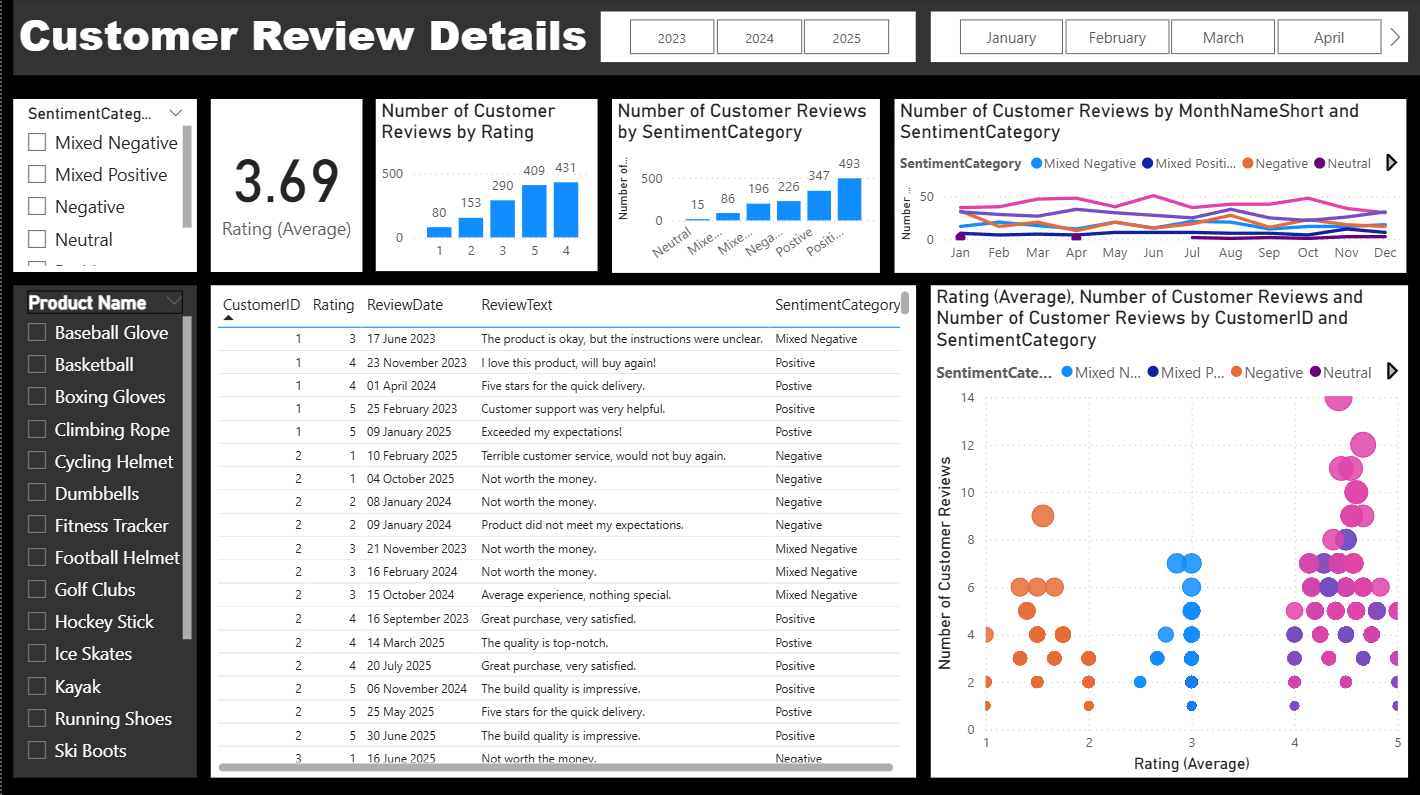

What the dashboard file says about the page in this screenshot:
{"tool":"powerbi","page":{"name":"Customer Review Details","canvas":[1280,720],"ordinal":3},"visuals":[{"type":"textbox","box":[9.6,0,1270.7,68.6],"z":0},{"type":"slicer","fields":{"Values":["dim_products.ProductName"]},"box":[10,258.6,165.7,444.3],"z":1000},{"type":"slicer","fields":{"Values":["Calendar.Year"]},"box":[540,11.4,284.3,45.7],"z":2000},{"type":"slicer","fields":{"Values":["Calendar.MonthNameLong"]},"box":[837.1,11.4,430,45.7],"z":3000},{"type":"card","fields":{"Values":["Calculations.Rating (Average)"]},"box":[188.6,90,137.1,155.7],"z":4000},{"type":"clusteredColumnChart","fields":{"Y":["Calculations.Number of Customer Reviews"],"Category":["fact_customer_reviews_with_sentiment.Rating"]},"box":[336.7,90,200,155],"z":4001},{"type":"clusteredColumnChart","fields":{"Y":["Calculations.Number of Customer Reviews"],"Category":["fact_customer_reviews_with_sentiment.SentimentCategory"]},"box":[550,90,241.7,156.7],"z":4002},{"type":"lineChart","fields":{"Y":["Calculations.Number of Customer Reviews"],"Series":["fact_customer_reviews_with_sentiment.SentimentCategory"],"Category":["Calendar.MonthNameShort"]},"box":[805,90,461.7,156.7],"z":4003},{"type":"tableEx","fields":{"Values":["fact_customer_reviews_with_sentiment.CustomerID","fact_customer_reviews_with_sentiment.Rating","fact_customer_reviews_with_sentiment.ReviewDate","fact_customer_reviews_with_sentiment.ReviewText","fact_customer_reviews_with_sentiment.SentimentCategory"]},"box":[188.6,258.6,635.7,444.3],"z":4004},{"type":"scatterChart","fields":{"Category":["dim_customers.CustomerID"],"X":["Calculations.Rating (Average)"],"Y":["Calculations.Number of Customer Reviews"],"Series":["fact_customer_reviews_with_sentiment.SentimentCategory"],"Size":["Calculations.Number of Customer Reviews"]},"box":[837.1,258.6,430,444.3],"z":4005},{"type":"slicer","fields":{"Values":["fact_customer_reviews_with_sentiment.SentimentCategory"]},"box":[10,90,165.7,155.7],"z":4006}]}

Visuals, with their boxes in screenshot pixels (x1, y1, x2, y2), scaled from the page's 1280x720 canvas onto the 1420x795 screenshot:
textbox: {"x1": 11, "y1": 0, "x2": 1419, "y2": 76}
slicer - dim_products.ProductName: {"x1": 11, "y1": 286, "x2": 195, "y2": 776}
slicer - Calendar.Year: {"x1": 599, "y1": 13, "x2": 914, "y2": 63}
slicer - Calendar.MonthNameLong: {"x1": 929, "y1": 13, "x2": 1406, "y2": 63}
card - Calculations.Rating (Average): {"x1": 209, "y1": 99, "x2": 361, "y2": 271}
clusteredColumnChart - Calculations.Number of Customer Reviews x fact_customer_reviews_with_sentiment.Rating: {"x1": 374, "y1": 99, "x2": 595, "y2": 271}
clusteredColumnChart - Calculations.Number of Customer Reviews x fact_customer_reviews_with_sentiment.SentimentCategory: {"x1": 610, "y1": 99, "x2": 878, "y2": 272}
lineChart - Calculations.Number of Customer Reviews x fact_customer_reviews_with_sentiment.SentimentCategory: {"x1": 893, "y1": 99, "x2": 1405, "y2": 272}
tableEx - fact_customer_reviews_with_sentiment.CustomerID x fact_customer_reviews_with_sentiment.Rating: {"x1": 209, "y1": 286, "x2": 914, "y2": 776}
scatterChart - dim_customers.CustomerID x Calculations.Rating (Average): {"x1": 929, "y1": 286, "x2": 1406, "y2": 776}
slicer - fact_customer_reviews_with_sentiment.SentimentCategory: {"x1": 11, "y1": 99, "x2": 195, "y2": 271}
